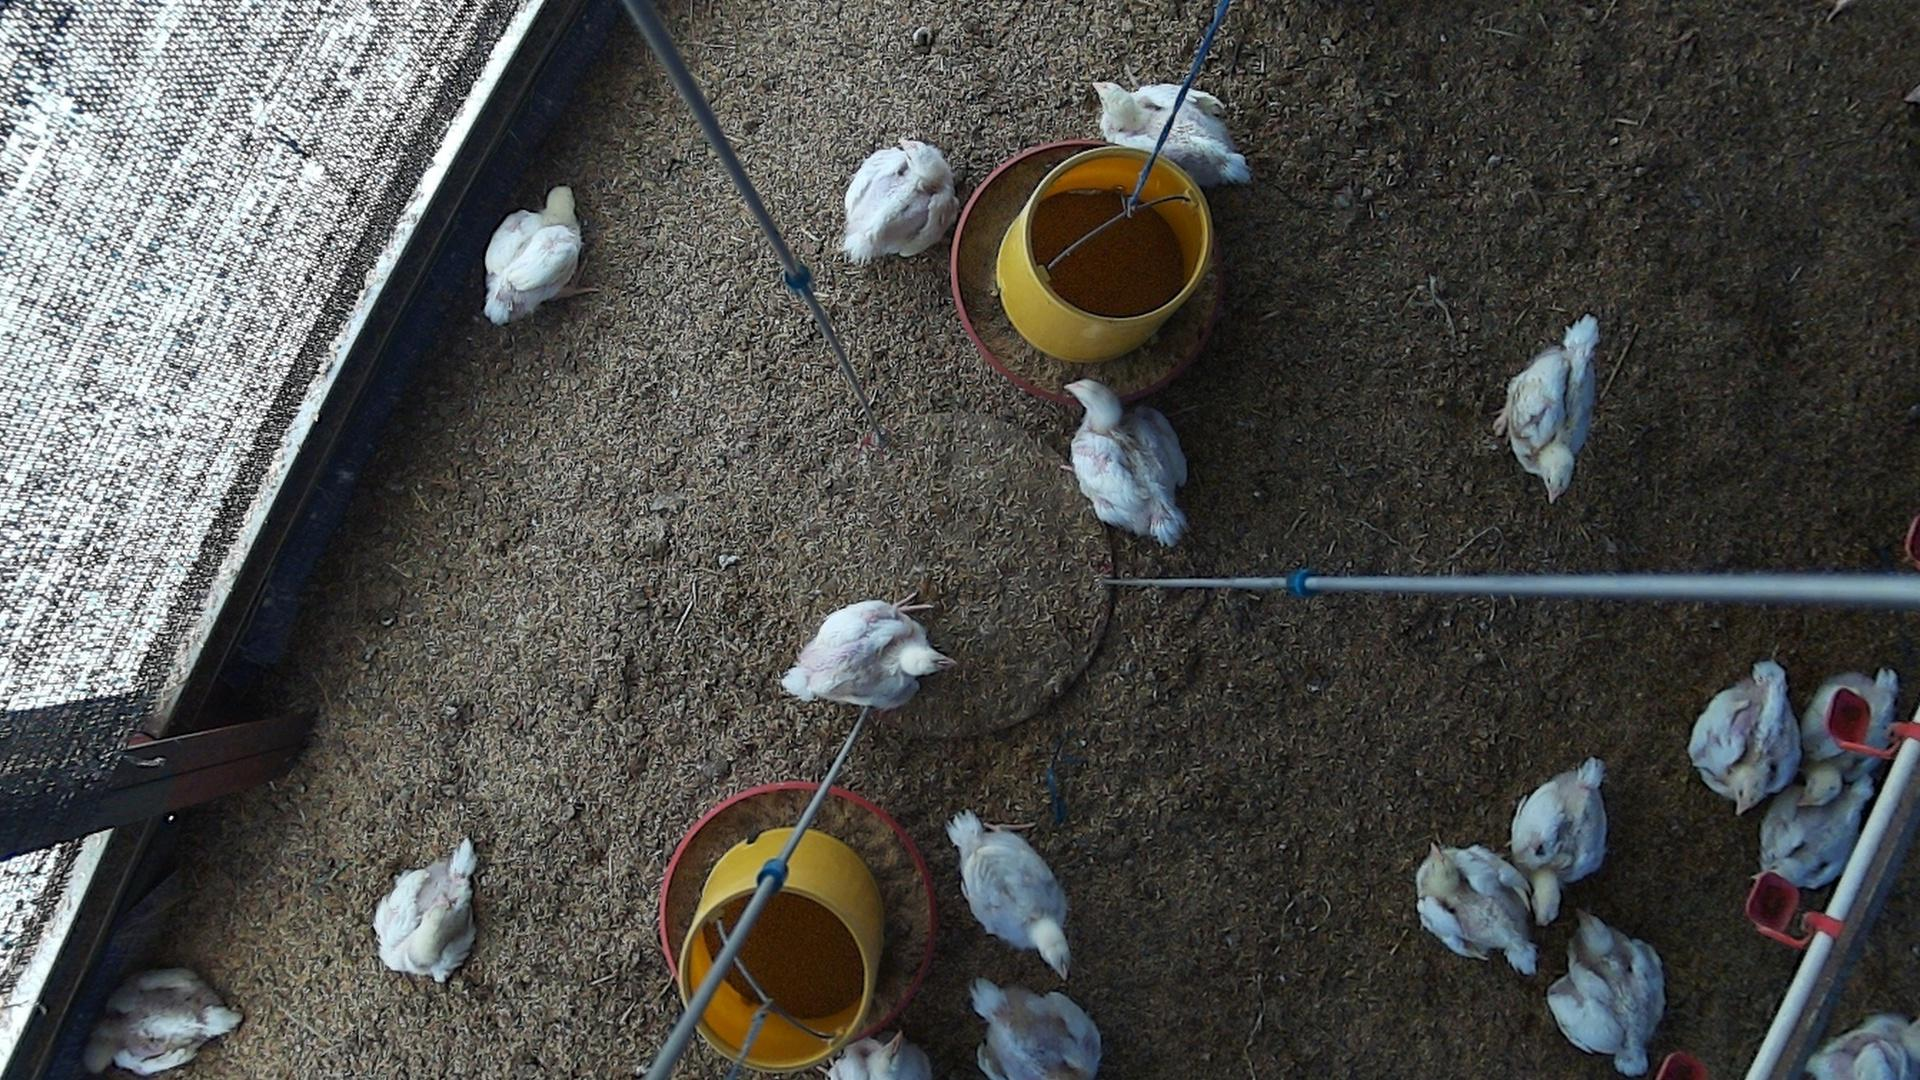ayam_broiler: (948, 810, 1069, 976), (1493, 314, 1597, 501), (1068, 380, 1188, 542), (1548, 911, 1664, 1075), (779, 599, 947, 707), (1092, 82, 1251, 186), (1511, 757, 1607, 927), (86, 968, 240, 1073), (1689, 661, 1797, 811), (1415, 845, 1540, 973), (1797, 669, 1899, 808), (484, 187, 582, 327), (971, 976, 1102, 1079), (841, 141, 952, 262), (375, 840, 472, 977), (1760, 764, 1859, 887)
